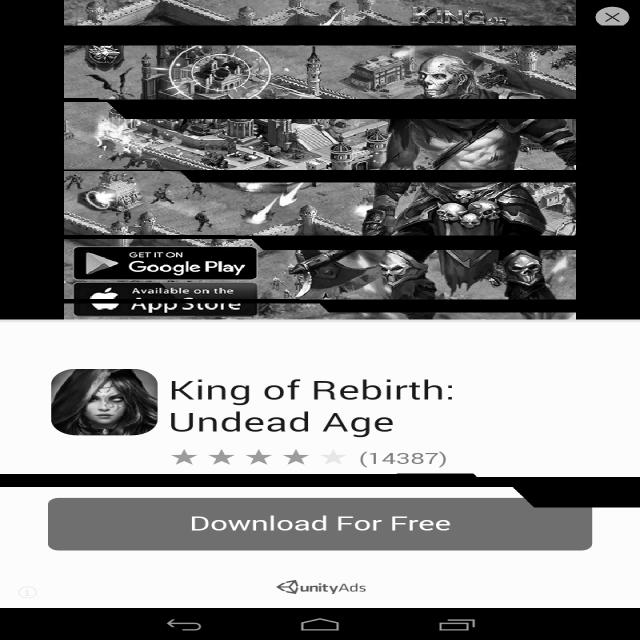Button: (39, 495, 602, 553), (66, 242, 264, 280)
ImageButton: (594, 6, 632, 30)
ImageView: (62, 4, 574, 236), (276, 246, 574, 316), (49, 368, 161, 438)
RatingBar: (170, 444, 353, 468)
TextView: (170, 376, 458, 438), (301, 574, 376, 598)
